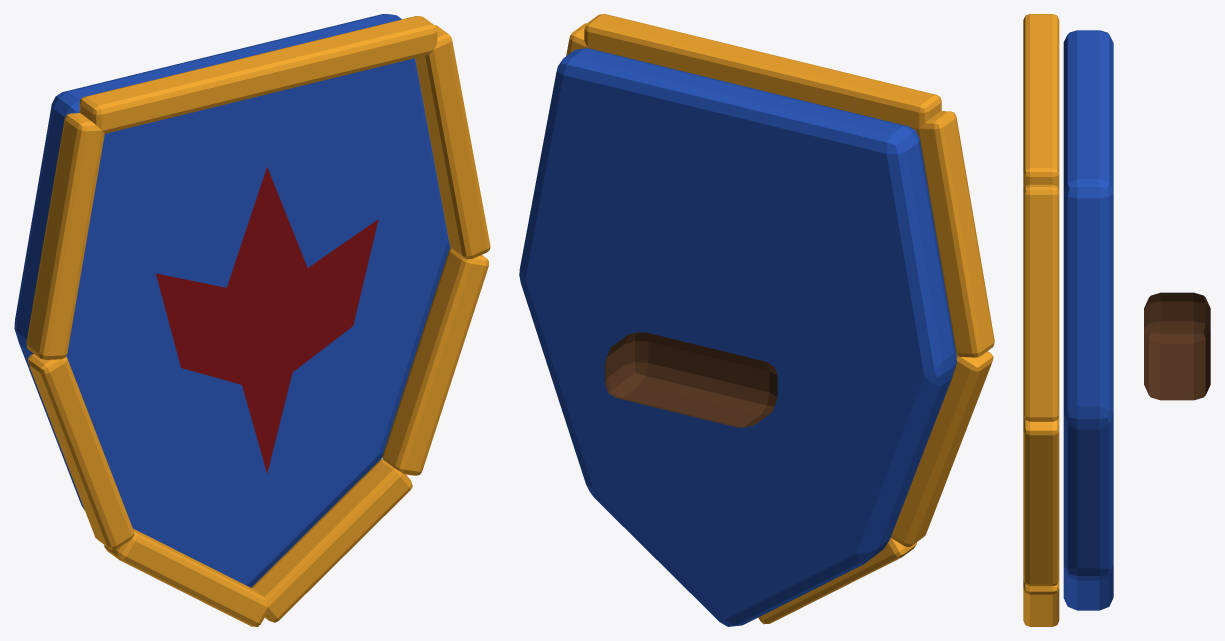
Rendered from evil_shield.glb.
The picture shows the model from 3 angles, left to right: view 1: azimuth 30°, elevation 25°; view 2: azimuth 150°, elevation 25°; view 3: azimuth 270°, elevation 25°; orthographic projection. The views are drawn at different scales.
Parts seen in each view (by area): view 1: Shield blue field, Crimson shield emblem, Shield gold rim, Shield gold rim.006, Shield gold rim.002, Shield gold rim.001, Shield gold rim.003, Shield gold rim.005, Shield gold rim.004; view 2: Shield blue field, Shield gold rim, Shield hand grip, Shield gold rim.006, Shield gold rim.005, Shield gold rim.004; view 3: Shield blue field, Shield gold rim.001, Shield hand grip, Shield gold rim, Shield gold rim.002, Shield gold rim.003.
Part boxes in pixels (box(x1,y1,x2,y2)): Shield blue field: box(14, 14, 450, 587); Crimson shield emblem: box(156, 167, 378, 473); Shield gold rim: box(79, 16, 437, 133); Shield gold rim.006: box(26, 113, 104, 359); Shield gold rim.002: box(382, 248, 488, 475); Shield gold rim.001: box(415, 25, 490, 259); Shield gold rim.003: box(251, 459, 412, 622); Shield gold rim.005: box(28, 353, 134, 549); Shield gold rim.004: box(104, 528, 267, 626); Shield blue field: box(519, 48, 956, 626); Shield gold rim: box(584, 14, 941, 131); Shield hand grip: box(605, 332, 777, 427); Shield gold rim.006: box(916, 111, 994, 357); Shield gold rim.005: box(891, 351, 993, 546); Shield gold rim.004: box(758, 538, 916, 624); Shield blue field: box(1063, 30, 1113, 610); Shield gold rim.001: box(1023, 184, 1059, 421); Shield hand grip: box(1144, 292, 1210, 400); Shield gold rim: box(1023, 14, 1059, 188); Shield gold rim.002: box(1023, 417, 1059, 586); Shield gold rim.003: box(1023, 580, 1059, 626).
Size of the model in its own units: 0.8897 by 1.05 by 0.3375.
